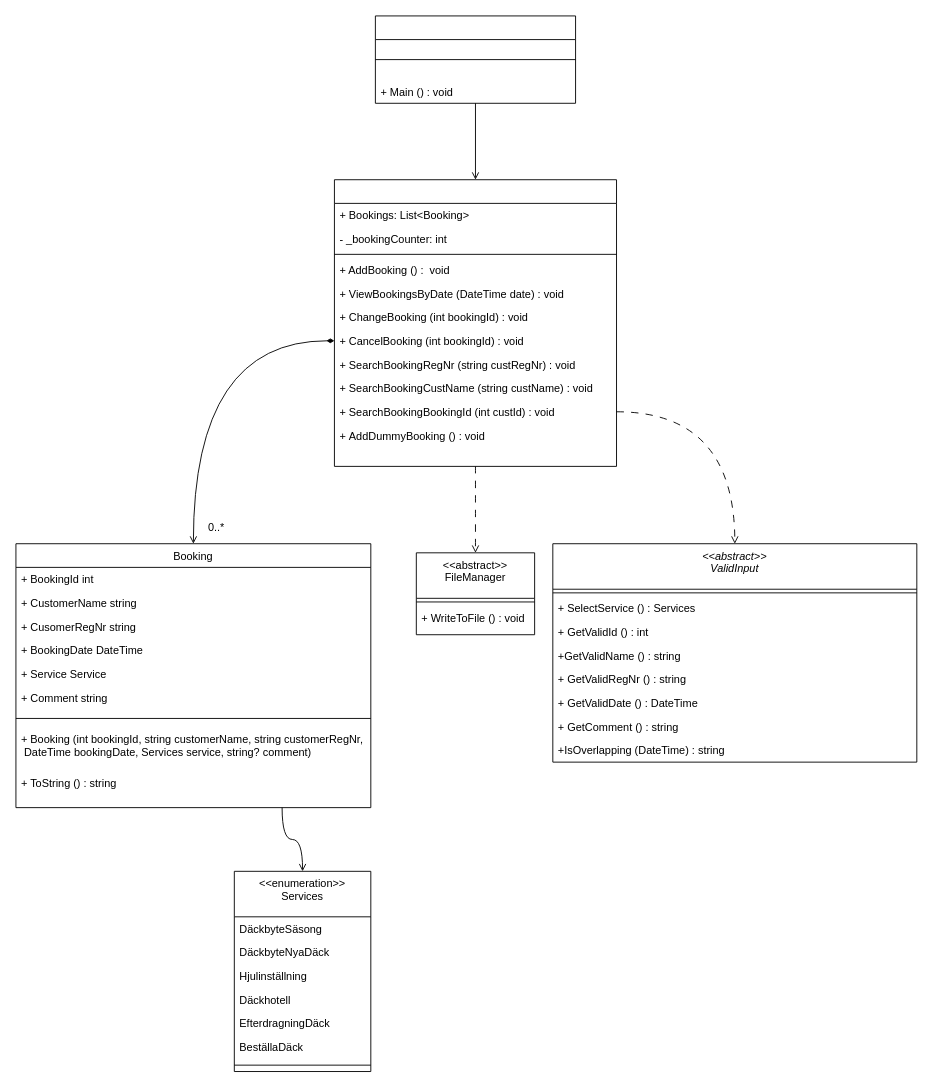
This 933x1087 diagram has some shape labels left out. Each missing label, with the box of its shape:
AdminPanel: (334, 179, 617, 466)
Program: (374, 15, 576, 103)
